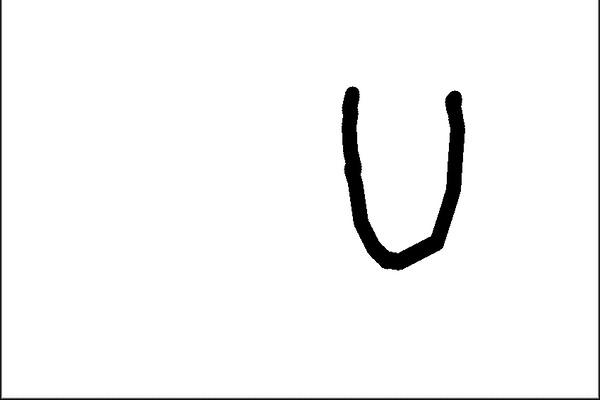U: (329, 80, 479, 271)
